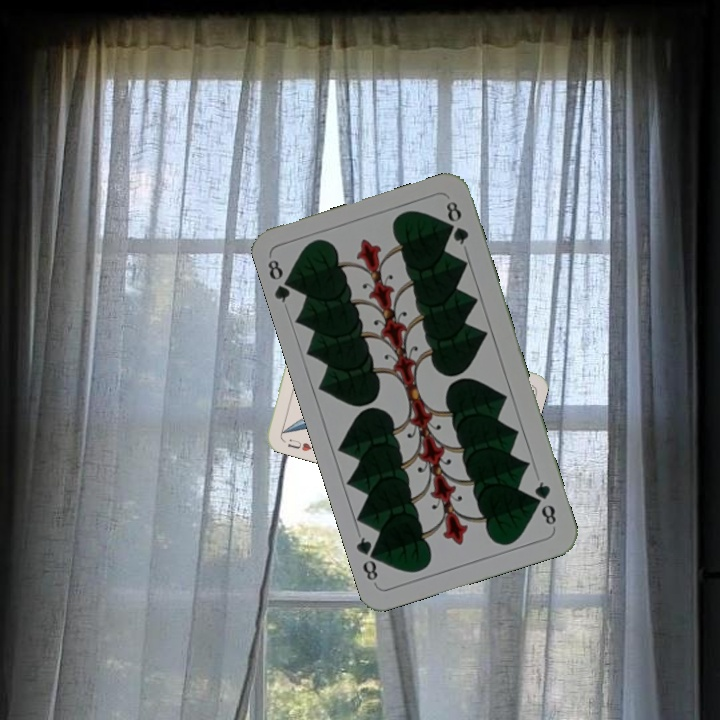G8: (263, 255, 299, 306), (530, 477, 559, 528)
HU: (284, 435, 318, 454)
